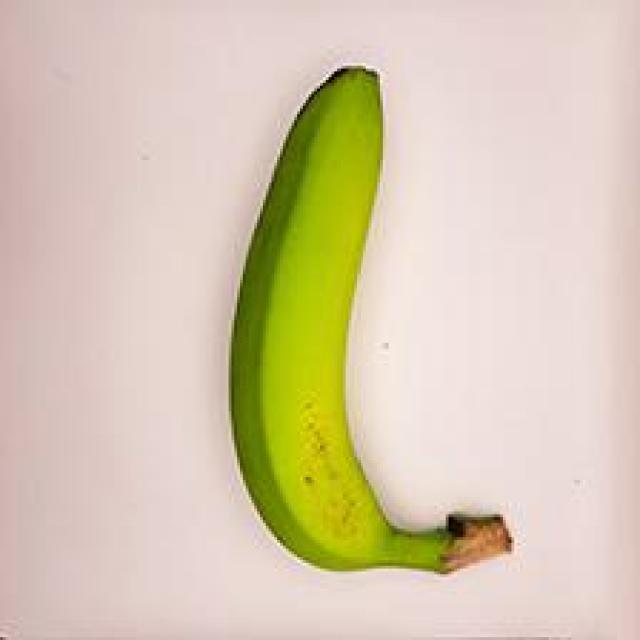Unripe: (169, 26, 523, 598)
